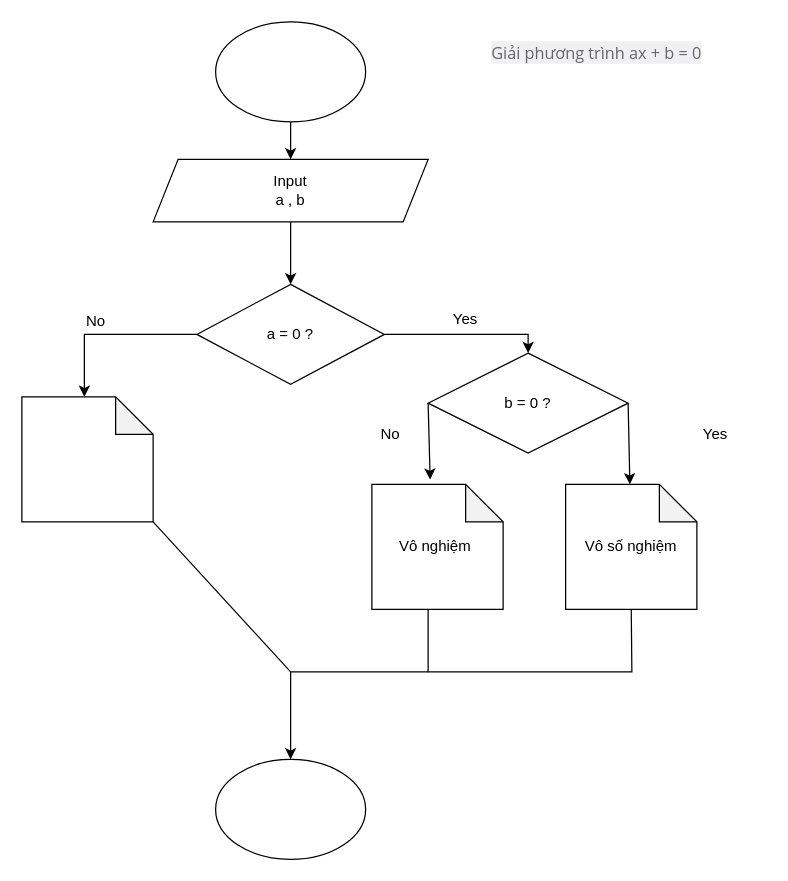
Some shapes in this 788 by 881 pixel diagram are drawn without their labels. Each missing label, with the centre of its shape:
End: [290,808]
Start: [290,71]
x = -b/a: [87,459]
